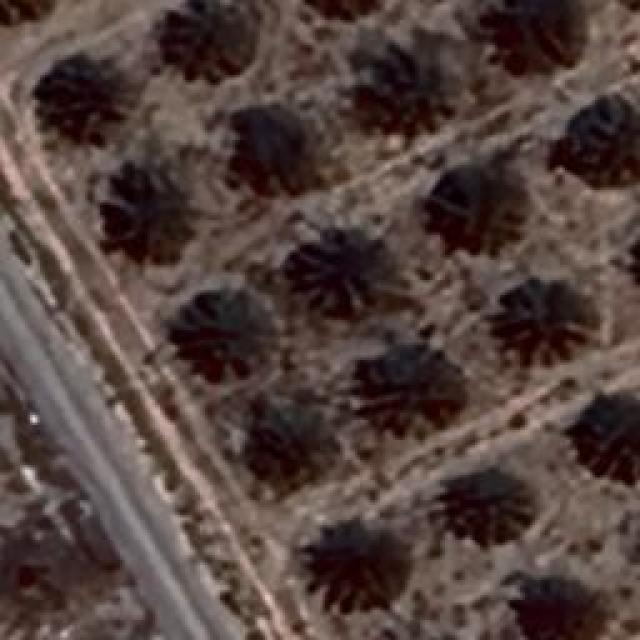PalmTree: (75, 63, 361, 565), (502, 276, 598, 366), (368, 348, 468, 434), (236, 98, 334, 182), (110, 164, 190, 262), (164, 0, 258, 80), (435, 174, 525, 256), (42, 52, 128, 136), (492, 0, 586, 75), (245, 407, 333, 485), (365, 50, 445, 135), (570, 98, 640, 192), (188, 292, 272, 368), (450, 470, 535, 545), (310, 235, 390, 313), (510, 580, 605, 640), (585, 394, 640, 478), (306, 0, 386, 20), (305, 0, 385, 16), (625, 220, 640, 298), (0, 0, 52, 20), (308, 0, 385, 11), (631, 222, 640, 300)
